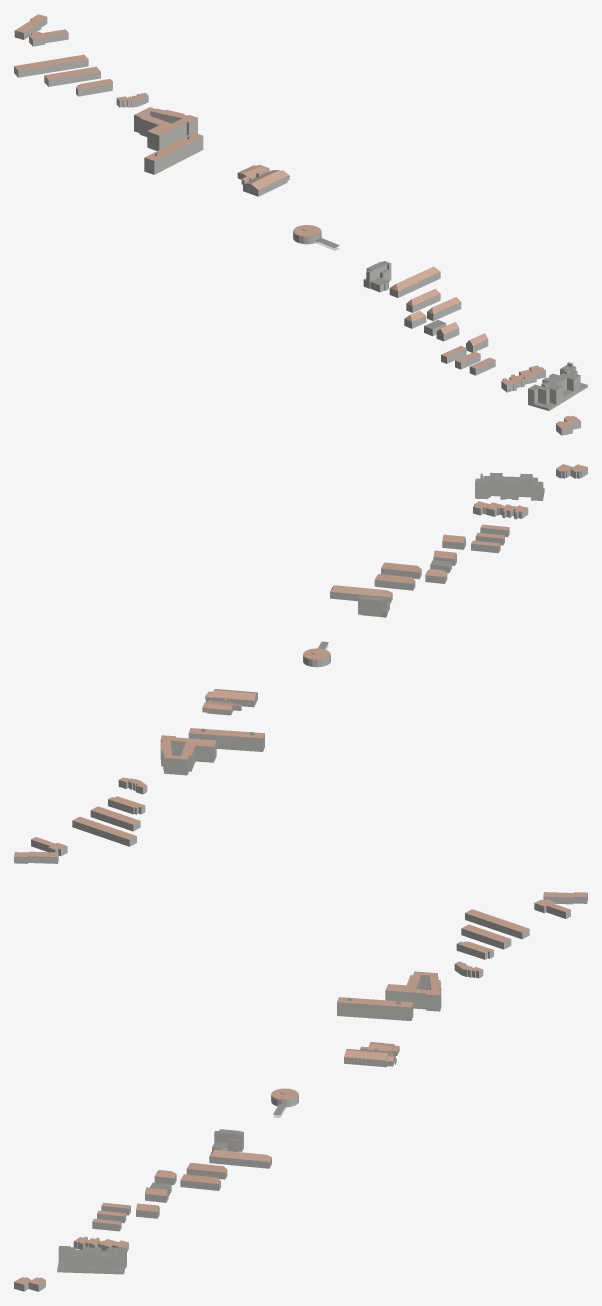
Rendered from gridID_101_high.dae.
3 views of the same model, one above another, from view 1: azimuth 30°, elevation 25°; view 2: azimuth 150°, elevation 25°; view 3: azimuth 330°, elevation 25° (orthographic). The views are drawn at different scales.
Parts seen in each view (by area): view 1: model_gridID_101_w414225319_001, model_gridID_101_w414225319_017, model_gridID_101_w414225319_027, model_gridID_101_w414225319_023, model_gridID_101_w414225319, model_gridID_101_w414225319_021, model_gridID_101_w414225319_022, model_gridID_101_w414225319_004, model_gridID_101_w414225319_018; view 2: model_gridID_101_w414225319_001, model_gridID_101_w414225319_017, model_gridID_101_w414225319_027, model_gridID_101_w414225319_023, model_gridID_101_w414225319_021, model_gridID_101_w414225319_018, model_gridID_101_w414225319, model_gridID_101_w414225319_022, model_gridID_101_w414225319_004, model_gridID_101_w414225319_012, model_gridID_101_w414225319_026; view 3: model_gridID_101_w414225319_017, model_gridID_101_w414225319_001, model_gridID_101_w414225319_027, model_gridID_101_w414225319_021, model_gridID_101_w414225319_023, model_gridID_101_w414225319, model_gridID_101_w414225319_022, model_gridID_101_w414225319_004, model_gridID_101_w414225319_009, model_gridID_101_w414225319_012.
Part boxes in pixels (box(x1,y1,x2,y2)): model_gridID_101_w414225319_001: box(134, 107, 197, 150); model_gridID_101_w414225319_017: box(528, 362, 587, 410); model_gridID_101_w414225319_027: box(144, 132, 203, 174); model_gridID_101_w414225319_023: box(14, 54, 88, 77); model_gridID_101_w414225319: box(243, 170, 289, 196); model_gridID_101_w414225319_021: box(389, 266, 440, 297); model_gridID_101_w414225319_022: box(44, 66, 100, 86); model_gridID_101_w414225319_004: box(363, 261, 391, 292); model_gridID_101_w414225319_018: box(501, 365, 545, 392); model_gridID_101_w414225319_001: box(160, 735, 216, 775); model_gridID_101_w414225319_017: box(475, 472, 544, 500); model_gridID_101_w414225319_027: box(188, 728, 264, 751); model_gridID_101_w414225319_023: box(72, 816, 136, 846); model_gridID_101_w414225319_021: box(330, 585, 392, 603); model_gridID_101_w414225319_018: box(473, 501, 528, 519); model_gridID_101_w414225319: box(205, 689, 257, 707); model_gridID_101_w414225319_022: box(90, 806, 140, 831); model_gridID_101_w414225319_004: box(358, 594, 389, 617); model_gridID_101_w414225319_012: box(374, 574, 415, 590); model_gridID_101_w414225319_026: box(14, 851, 58, 863); model_gridID_101_w414225319_017: box(57, 1244, 126, 1274); model_gridID_101_w414225319_001: box(385, 971, 441, 1011); model_gridID_101_w414225319_027: box(337, 997, 413, 1020); model_gridID_101_w414225319_021: box(209, 1150, 271, 1168); model_gridID_101_w414225319_023: box(465, 909, 529, 939); model_gridID_101_w414225319: box(344, 1049, 396, 1067); model_gridID_101_w414225319_022: box(461, 924, 511, 949); model_gridID_101_w414225319_004: box(212, 1129, 243, 1151); model_gridID_101_w414225319_009: box(180, 1174, 220, 1190); model_gridID_101_w414225319_012: box(186, 1162, 227, 1179).
Bounding box in the file's own units: 126 × 1080 × 23.
